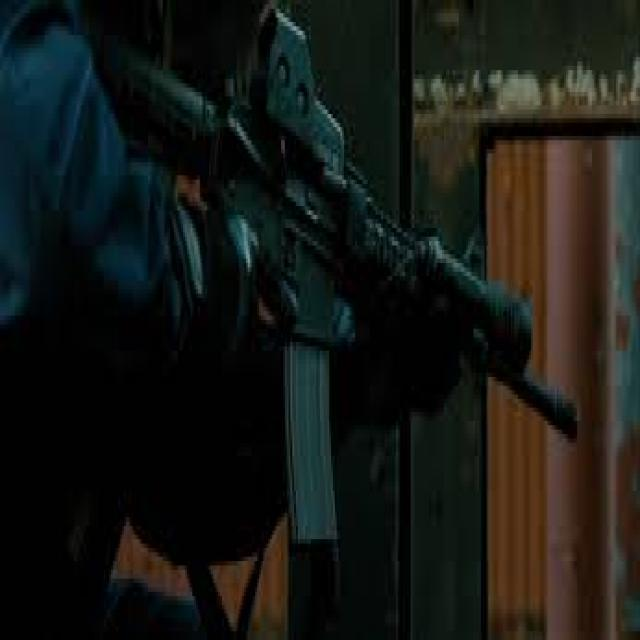weapon: (95, 0, 576, 558)
